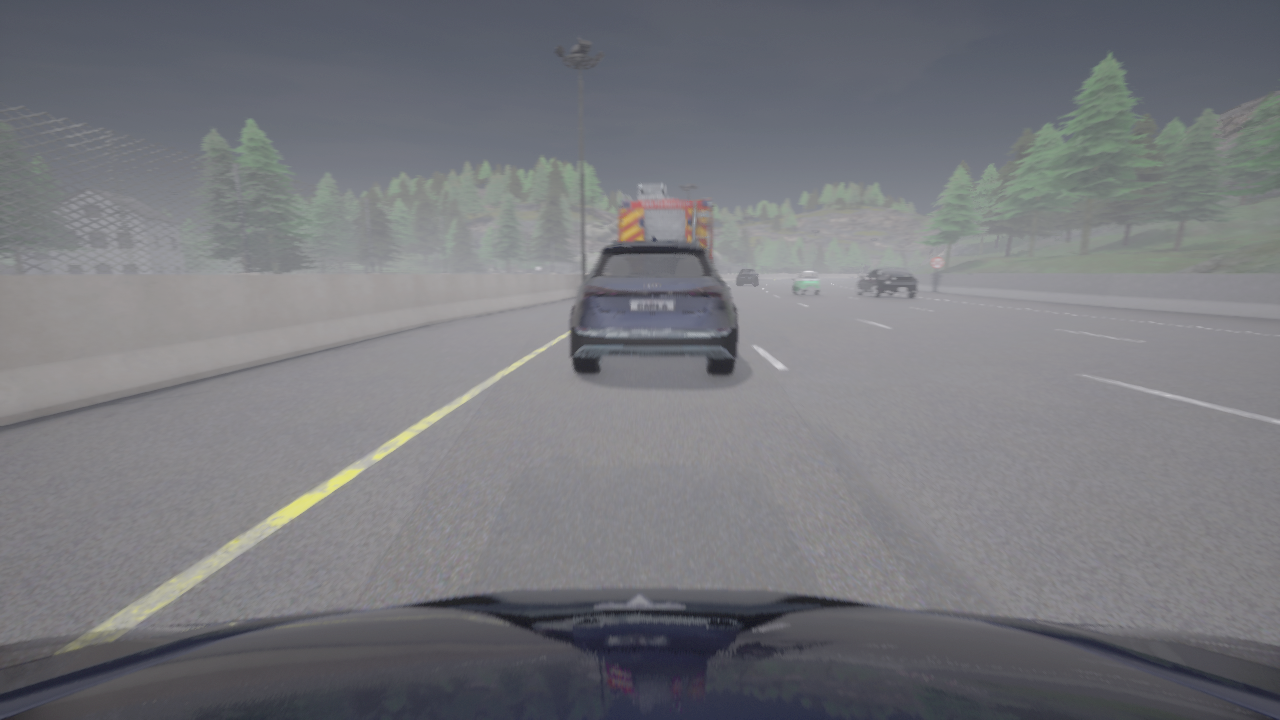cyclist: (0, 588, 1279, 719), (570, 236, 737, 375), (619, 184, 713, 262), (856, 267, 918, 298), (793, 271, 820, 295), (737, 270, 757, 285)
